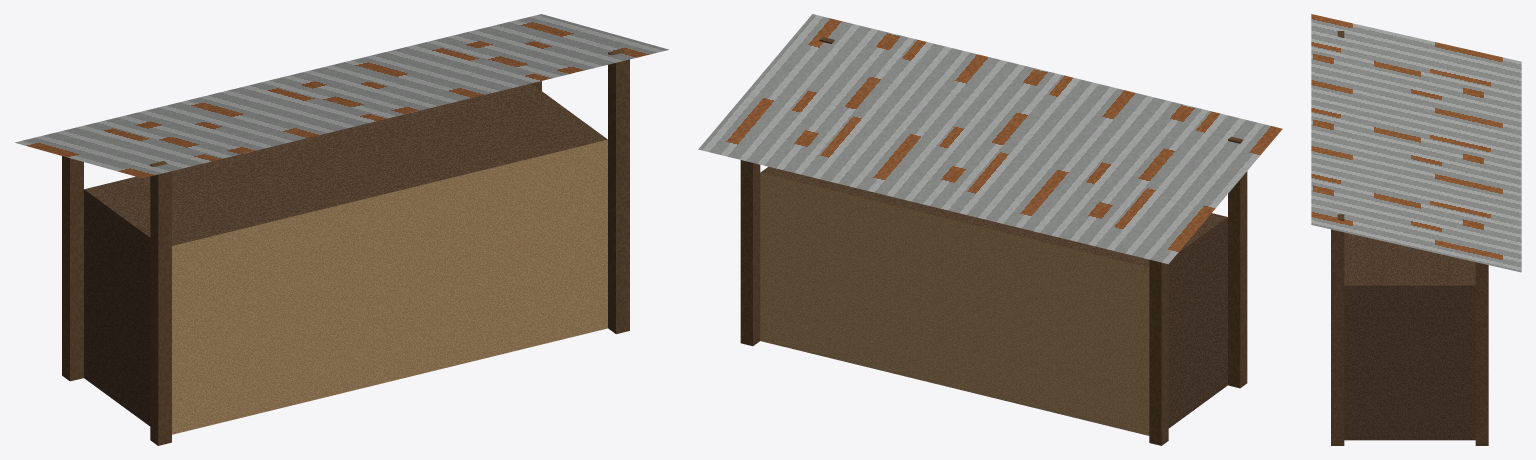
File: woodpile.glb
The picture shows the model from 3 angles, left to right: view 1: azimuth 30°, elevation 25°; view 2: azimuth 150°, elevation 25°; view 3: azimuth 270°, elevation 25°; orthographic projection. The views are drawn at different scales.
Parts seen in each view (by area): view 1: woodpile; view 2: woodpile; view 3: woodpile.
Part boxes in pixels (left/top/right/bottom): woodpile: left=15, top=14, right=668, bottom=445; woodpile: left=698, top=14, right=1282, bottom=445; woodpile: left=1311, top=14, right=1521, bottom=445.
Size of the model in its own units: 3.8 by 1.95 by 1.6.
Materials: 4 (4 with a texture image).
